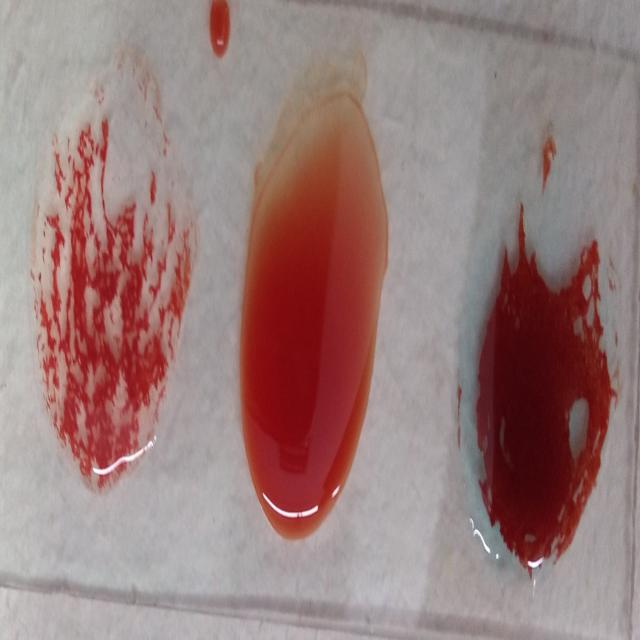A: (466, 126, 612, 586)
D: (39, 56, 184, 486)
